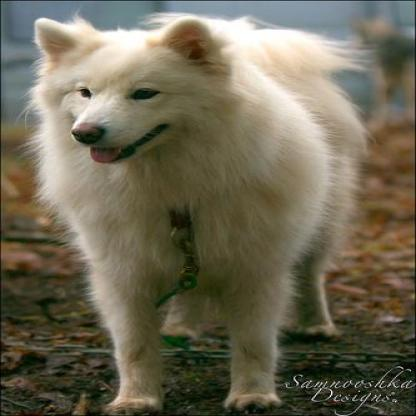Samoyed: (24, 9, 366, 411)
